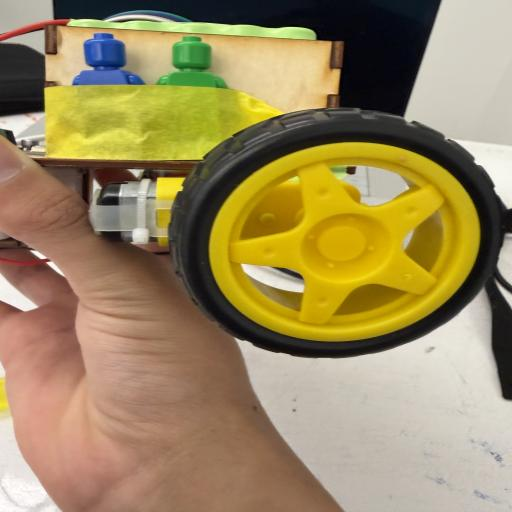Blue-Lego: (72, 33, 145, 85)
Green-Lego: (157, 36, 228, 89)
